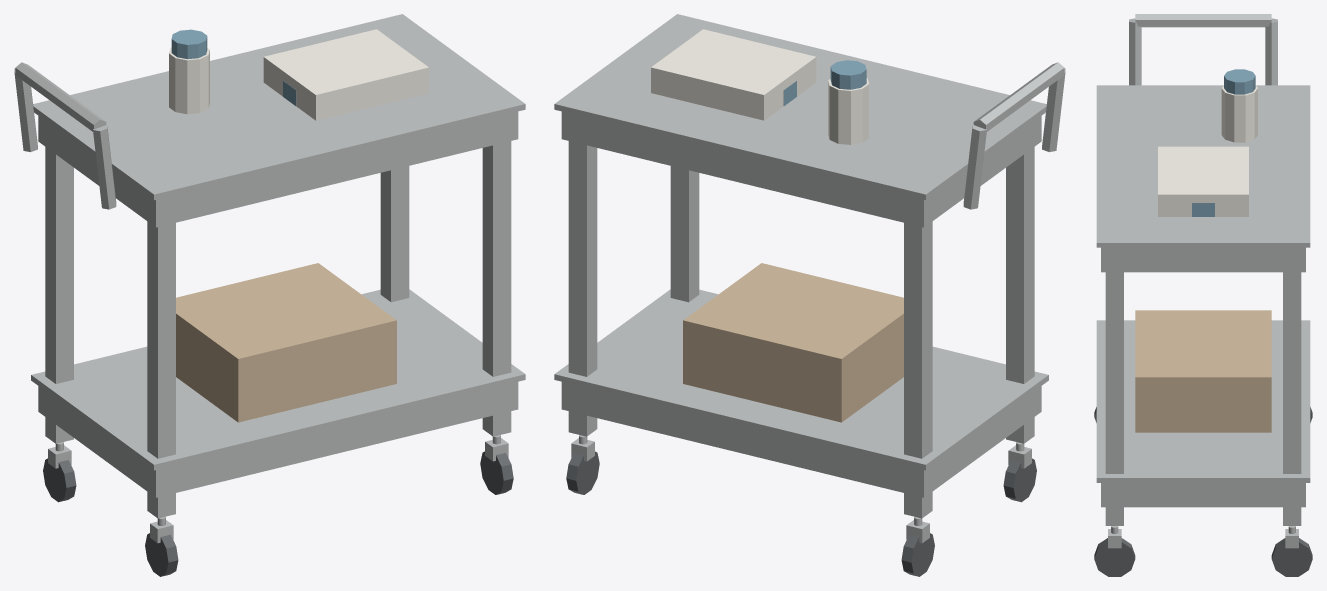
The model's file is service_cart.fbx.
The picture shows the model from 3 angles, left to right: view 1: azimuth 30°, elevation 25°; view 2: azimuth 150°, elevation 25°; view 3: azimuth 270°, elevation 25°; orthographic projection. The views are drawn at different scales.
Visible parts, largest first — view 1: service_cart; view 2: service_cart; view 3: service_cart.
Boxes of the visible parts, bbox=[...] form: service_cart: bbox=[14, 14, 525, 576]; service_cart: bbox=[554, 14, 1065, 576]; service_cart: bbox=[1094, 14, 1312, 576].
Bounding box in the file's own units: 90.59 × 96.78 × 48.
